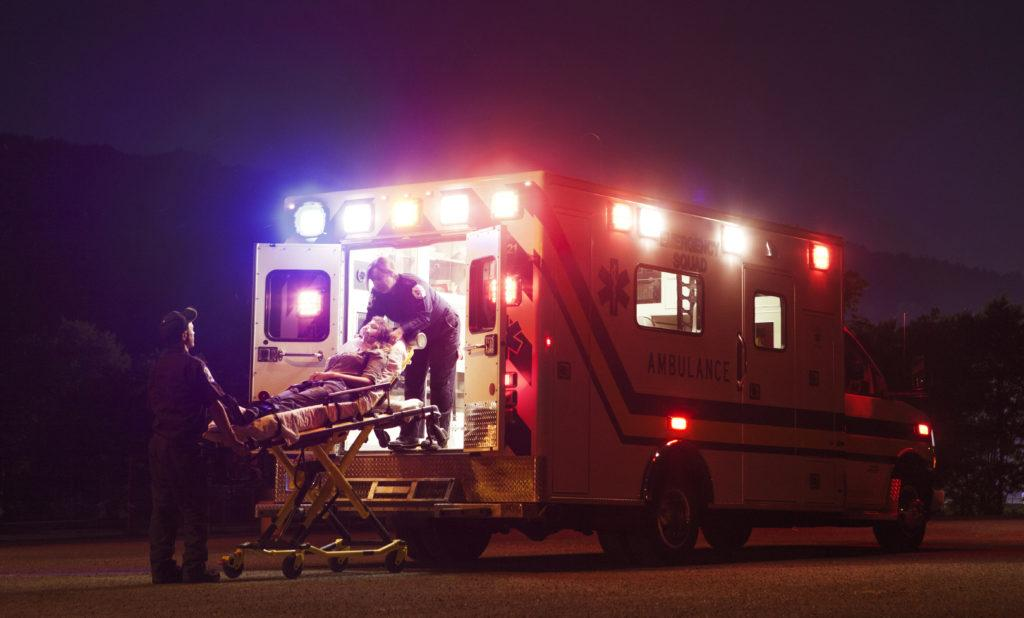ambulance_on: (250, 164, 942, 560)
